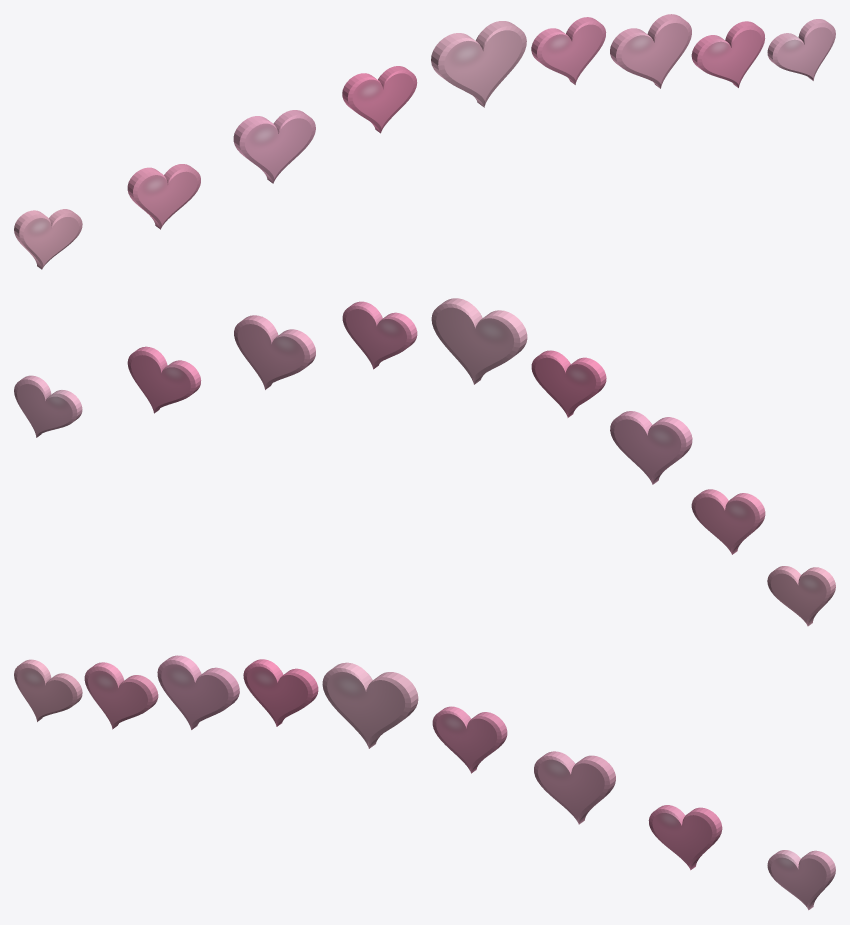
Rendered from heart_mood_crown_lod_a.glb.
3 views of the same model, one above another, from view 1: azimuth 30°, elevation 25°; view 2: azimuth 150°, elevation 25°; view 3: azimuth 330°, elevation 25° (orthographic).
Parts seen in each view (by area): view 1: HeartMood_Crown_Pivot; view 2: HeartMood_Crown_Pivot; view 3: HeartMood_Crown_Pivot.
Boxes of the visible parts, bbox=[...] form: HeartMood_Crown_Pivot: bbox=[14, 14, 835, 269]; HeartMood_Crown_Pivot: bbox=[14, 298, 835, 626]; HeartMood_Crown_Pivot: bbox=[14, 655, 835, 910].
Size of the model in its own units: 0.9281 by 0.2001 by 0.1215.
1 material, 1 textured.
